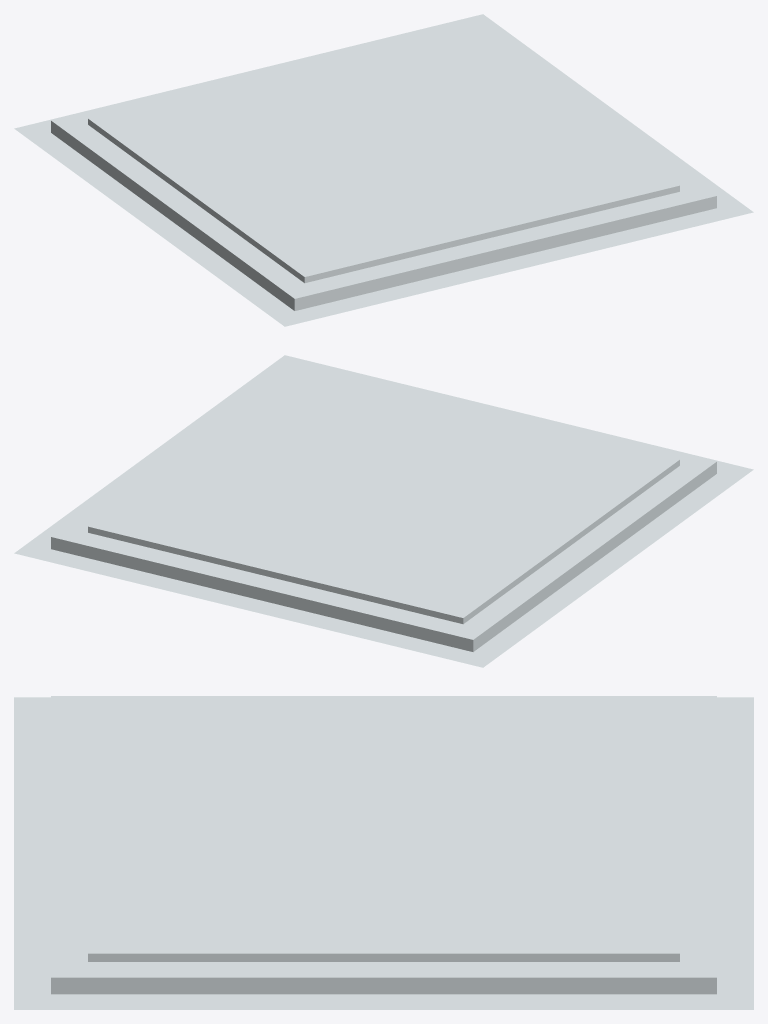
File: Roof.fbx
3 views of the same model, one above another, from view 1: azimuth 30°, elevation 25°; view 2: azimuth 150°, elevation 25°; view 3: azimuth 270°, elevation 25° (orthographic). The views are drawn at different scales.
Visible parts, largest first — view 1: Roof; view 2: Roof; view 3: Roof.
Part boxes in pixels (box(x1,y1,x2,y2)): Roof: box(14, 14, 753, 326); Roof: box(14, 355, 753, 667); Roof: box(14, 696, 753, 1009).
Bounding box in the file's own units: 300 × 11.25 × 300.
